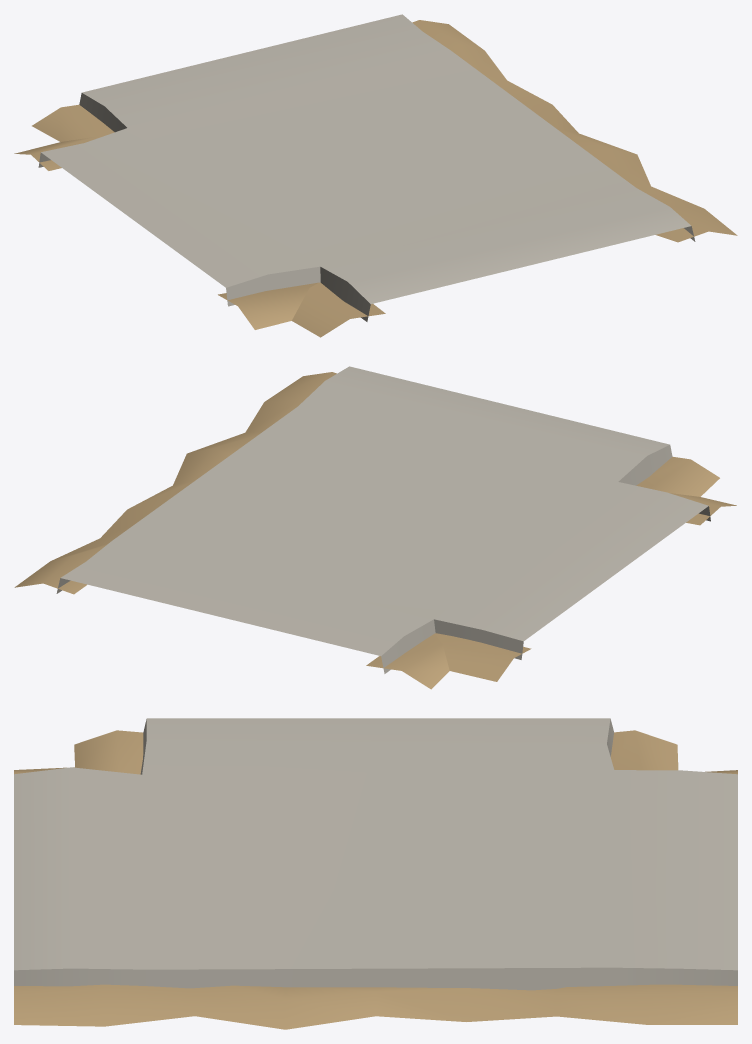
The model's file is Building_mode_L2_RoadTcross002.fbx.
The picture shows the model from 3 angles, top to bottom: view 1: azimuth 30°, elevation 25°; view 2: azimuth 150°, elevation 25°; view 3: azimuth 270°, elevation 25°; orthographic projection. The views are drawn at different scales.
Parts seen in each view (by area): view 1: Building_mode_L2_RoadTcross002; view 2: Building_mode_L2_RoadTcross002; view 3: Building_mode_L2_RoadTcross002.
Part boxes in pixels (x1,y1,x2,y2): Building_mode_L2_RoadTcross002: (14, 14, 737, 337); Building_mode_L2_RoadTcross002: (14, 366, 736, 689); Building_mode_L2_RoadTcross002: (14, 718, 737, 1029).
Size of the model in its own units: 2.8 by 0.1528 by 3.
